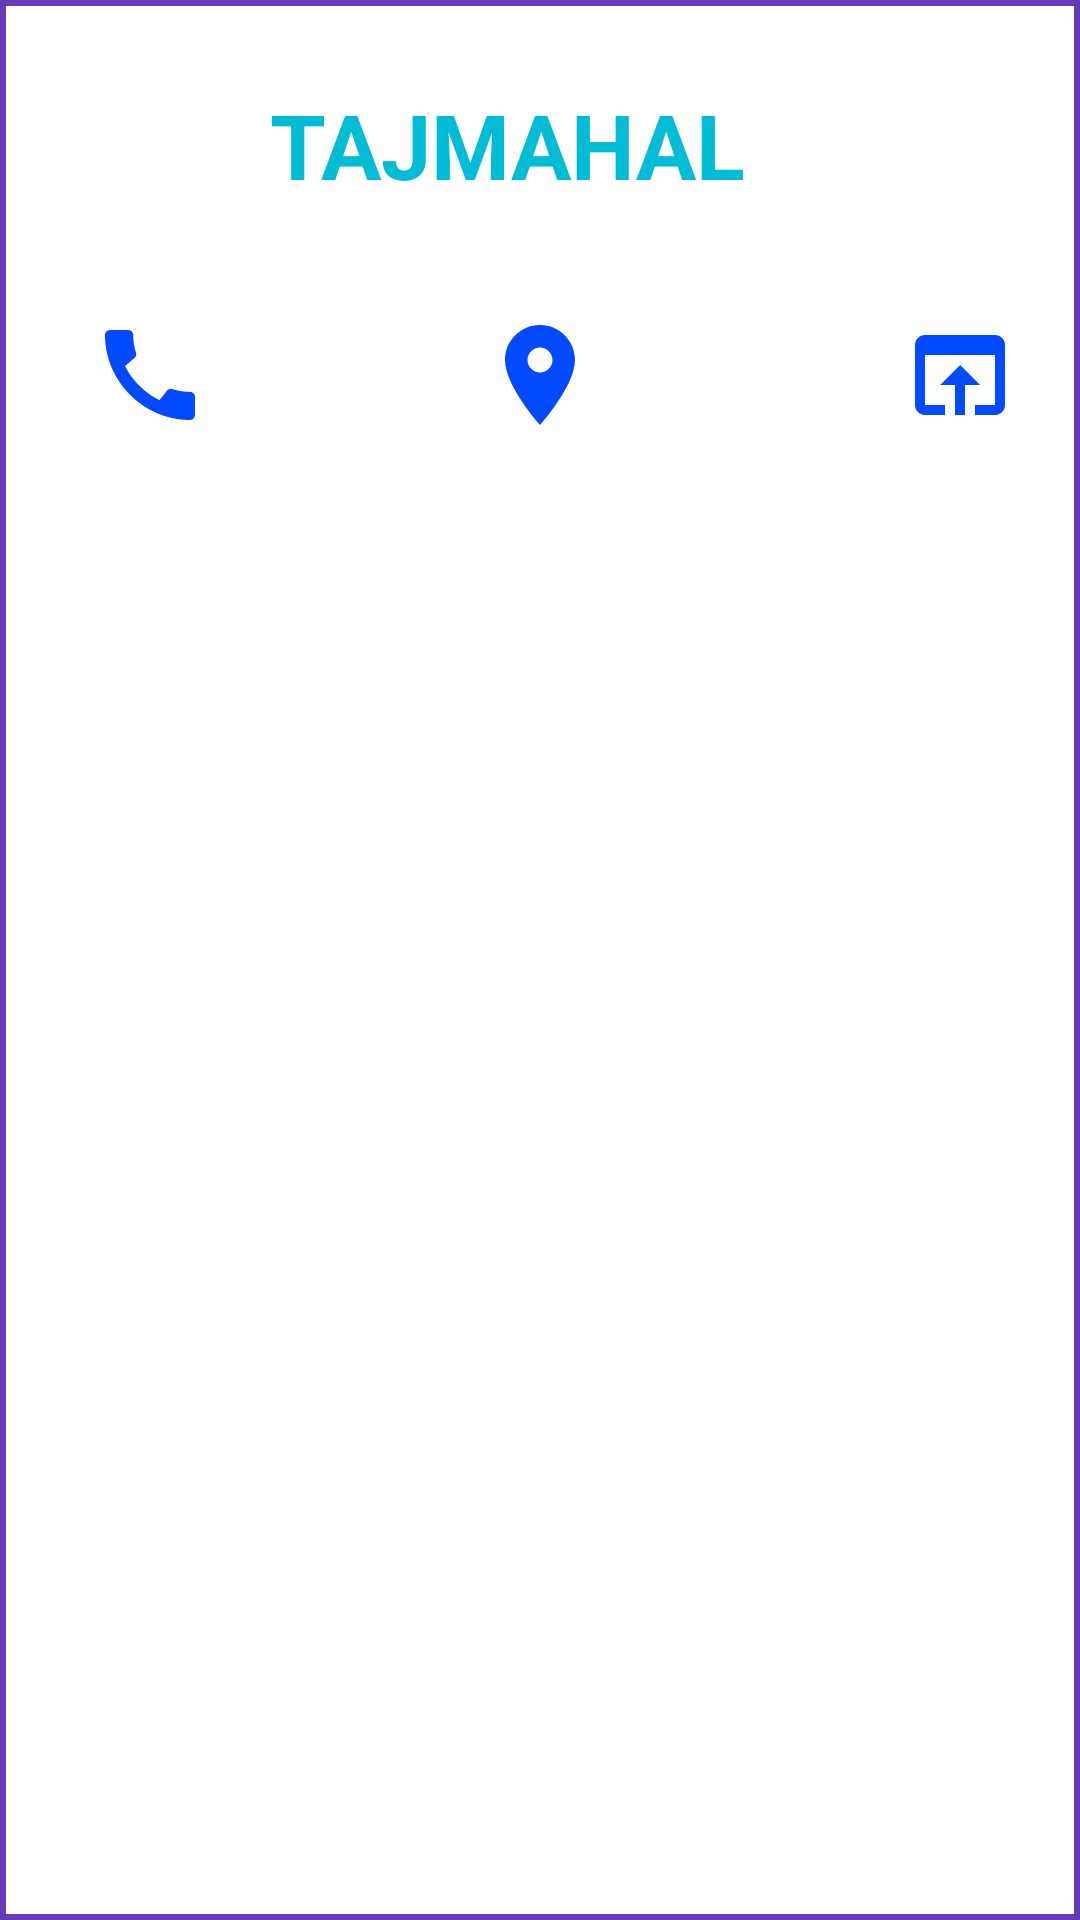

Screen size 1080×1920. Icon name, then its center in pixels as (x,y):
call: (150,375)
location on: (540,375)
open in browser: (960,375)
